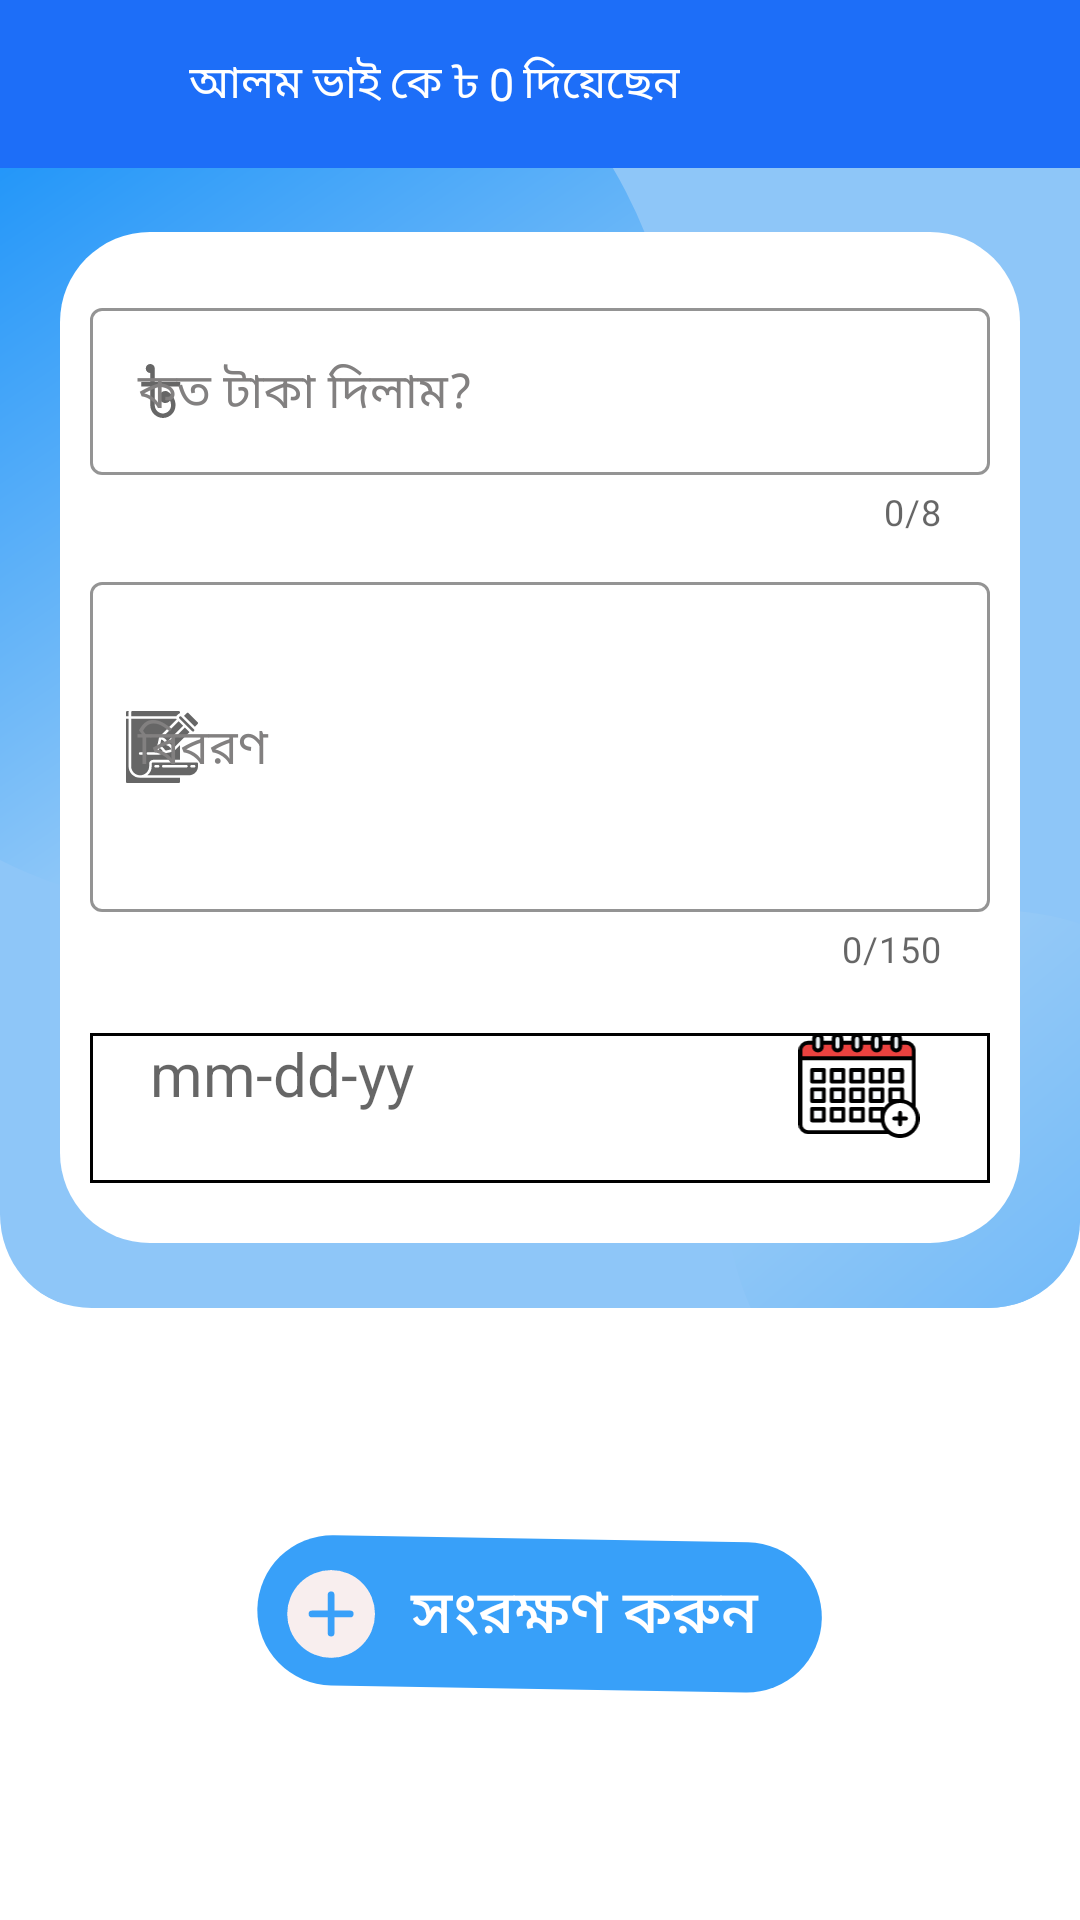

Named icons in this screenshot (1080 × 1920) and their bounding boxes, (x1, y1, x2, y2):
calender: (788, 1033, 930, 1138)
